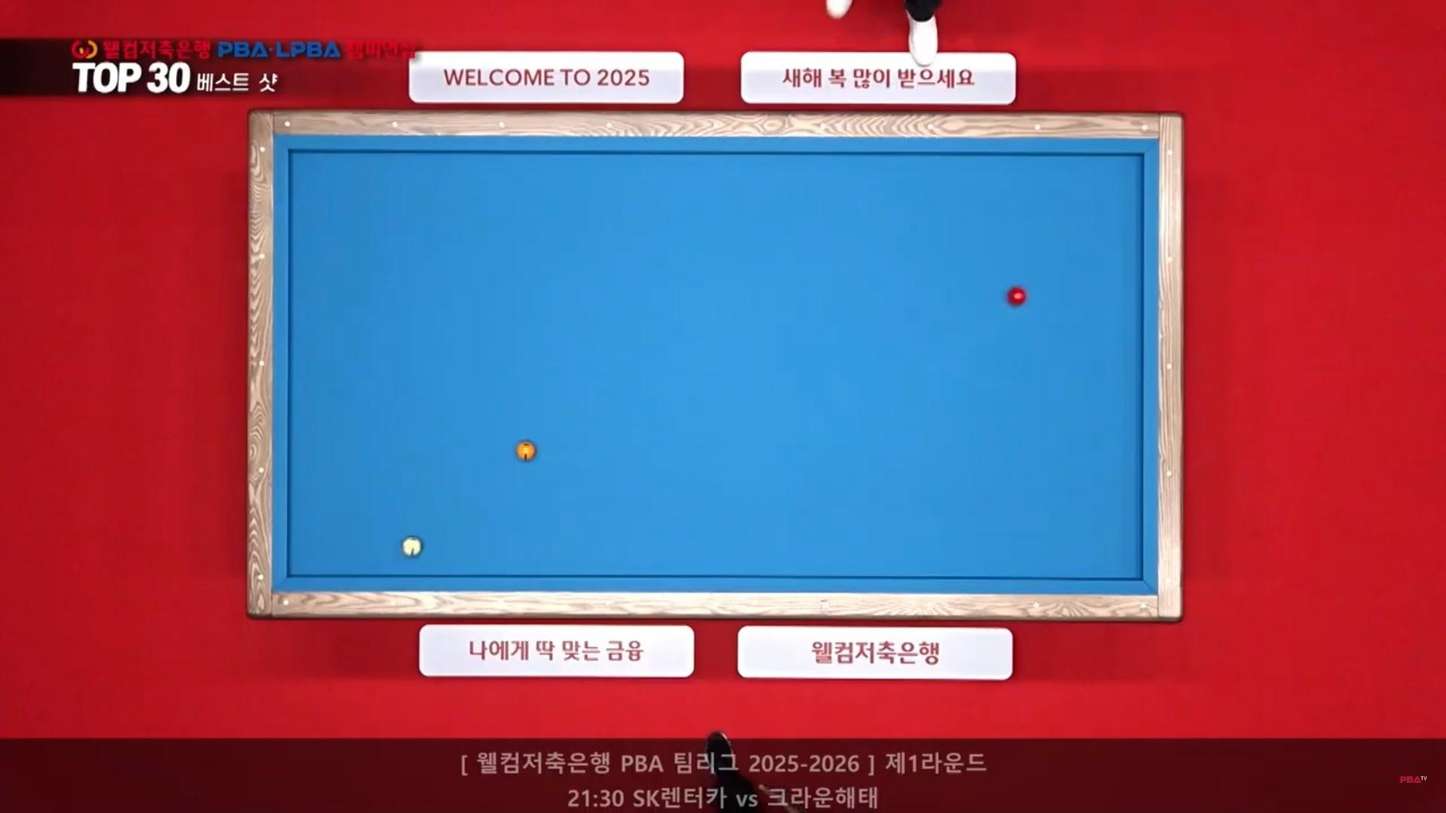Red: (1008, 289, 1032, 307)
White: (401, 537, 425, 556)
billiard-ball-Yellow: (514, 437, 539, 461)
